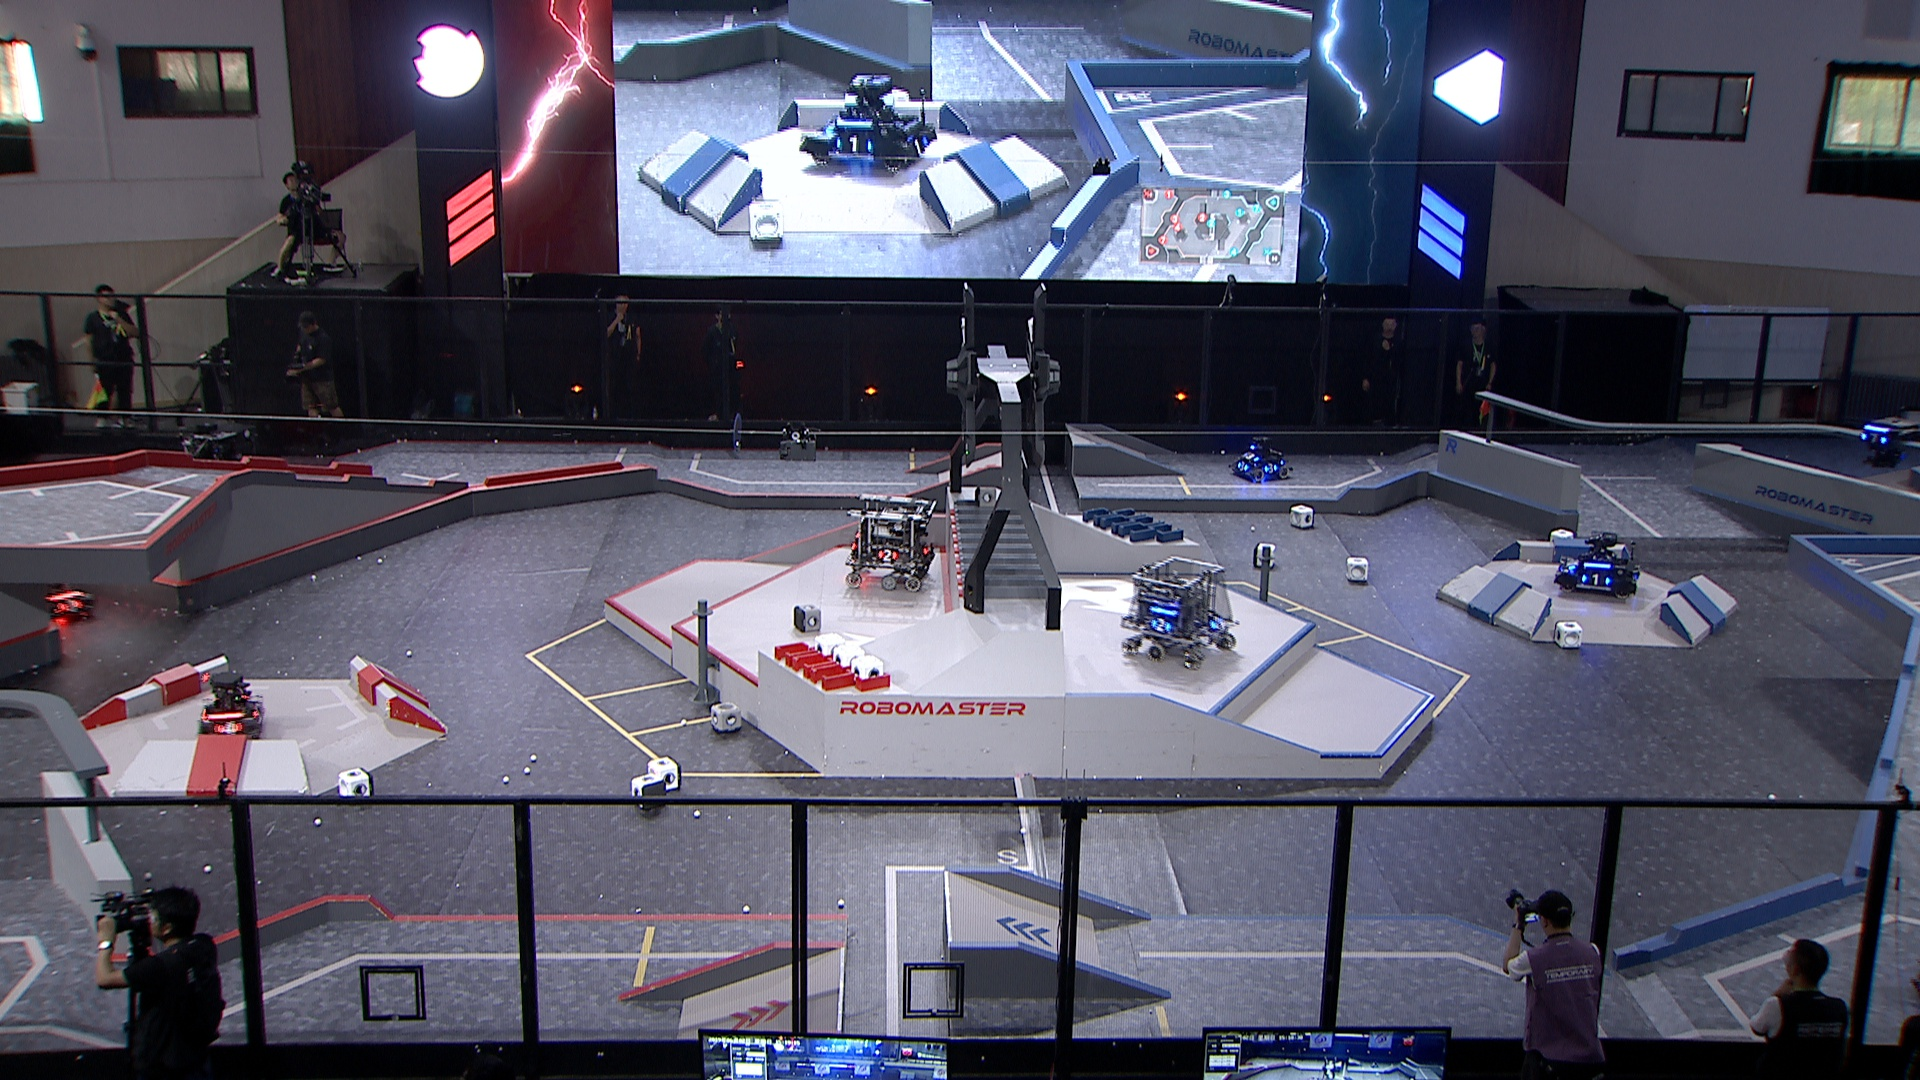armor: (211, 719, 243, 737), (1581, 572, 1611, 588), (53, 599, 82, 615), (1150, 616, 1174, 633), (1859, 433, 1888, 446), (876, 547, 901, 562), (1207, 616, 1224, 632), (1262, 462, 1280, 475), (1242, 451, 1262, 462), (1237, 460, 1251, 472), (1564, 559, 1578, 570)
car: (1114, 555, 1240, 669), (841, 491, 939, 593), (171, 418, 253, 505), (1555, 531, 1647, 600), (195, 669, 262, 745), (29, 564, 94, 624), (1229, 436, 1294, 483)
ignore: (798, 67, 936, 177)
watcher: (1854, 413, 1912, 471)
